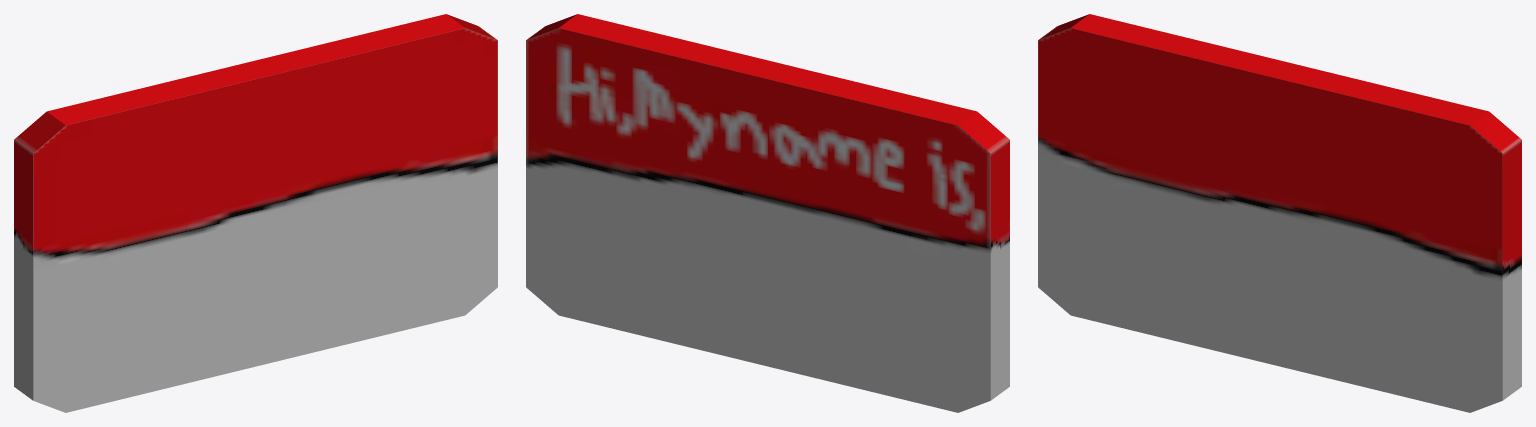
File: item-nametag.glb
3 views of the same model, side by side, from view 1: azimuth 30°, elevation 25°; view 2: azimuth 150°, elevation 25°; view 3: azimuth 330°, elevation 25° (orthographic).
Size of the model in its own units: 0.1536 by 0.0908 by 0.0109.
1 material, 1 textured.
